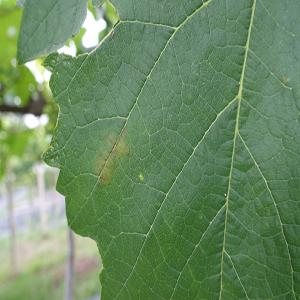Folha: (40, 0, 300, 299), (16, 0, 89, 68)
Fungo: (92, 126, 130, 187), (282, 76, 290, 84), (138, 172, 144, 180), (110, 28, 114, 38)
